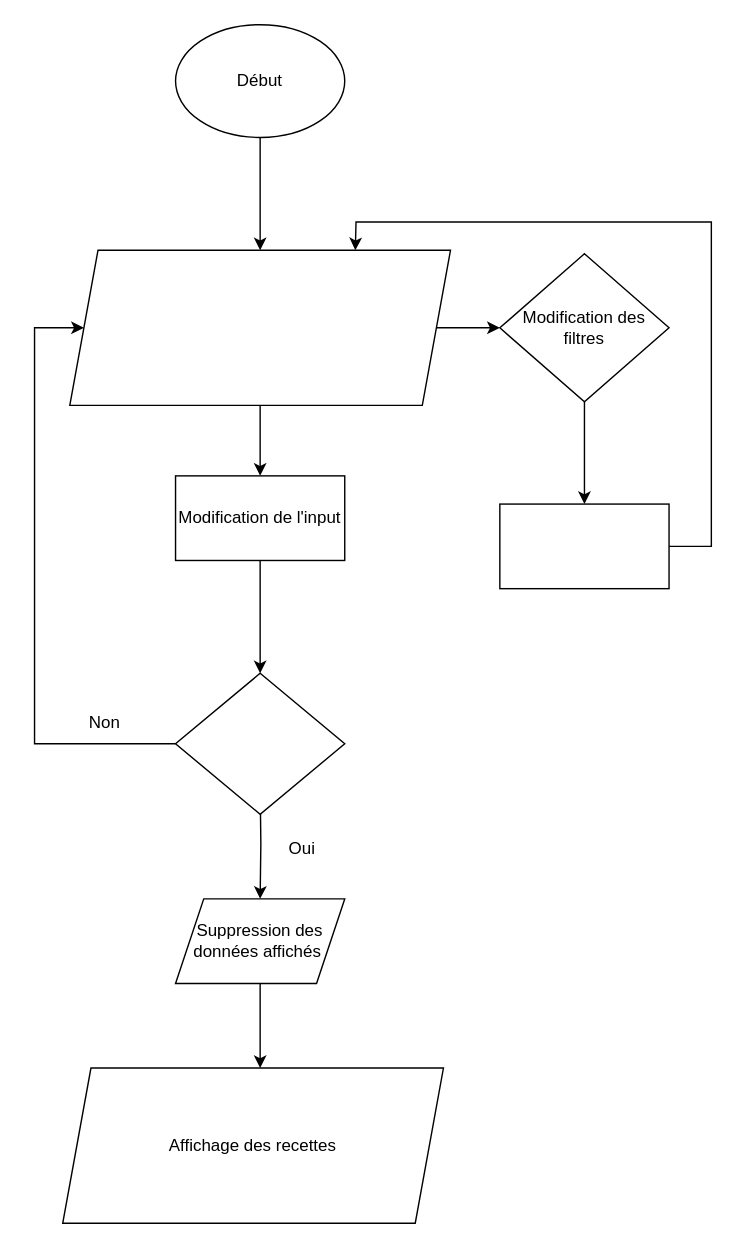
This 747x1248 diagram has some shape labels left out. The shapes that lost their labels are listed below. From the top down, each one's centre as x and y in pixels, then its label:
the point at 259,327: Affichage des recettes et des filtres selon la variable (search et filtres)
the point at 583,546: Ingrédients / Ustensiles / Appareils
the point at 259,743: - de 3 caractères ?
